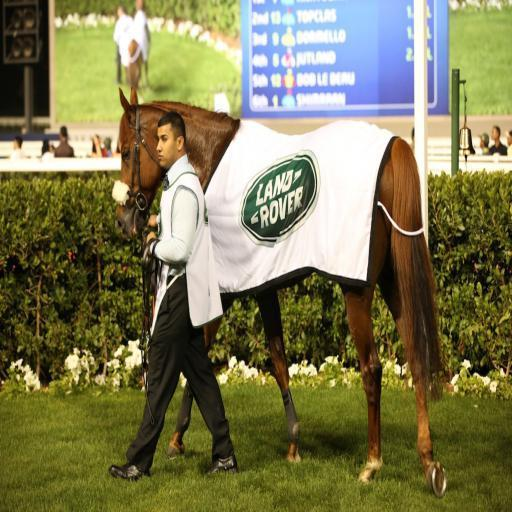horse: (116, 86, 450, 499)
